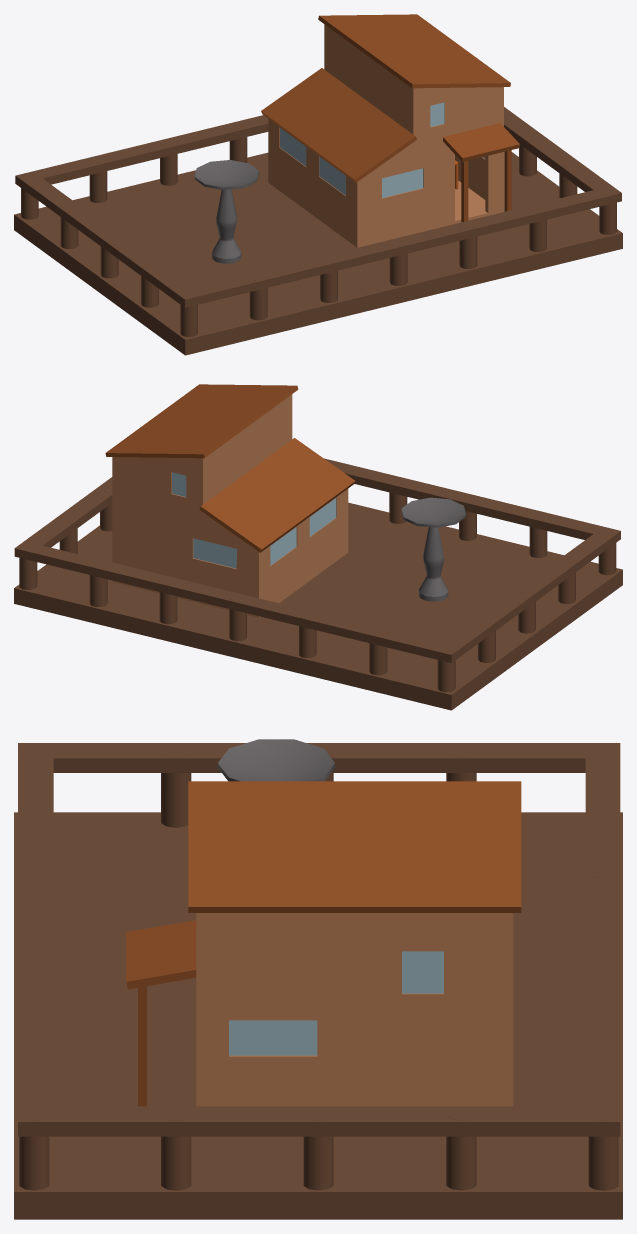
The model's file is Separated_Birdhouse_Model.fbx.
The picture shows the model from 3 angles, top to bottom: view 1: azimuth 30°, elevation 25°; view 2: azimuth 150°, elevation 25°; view 3: azimuth 270°, elevation 25°; orthographic projection. The views are drawn at different scales.
Visible parts, largest first — view 1: Platform, House1, Roof, Fountain, Windows1; view 2: Platform, House1, Roof, Fountain, Windows1; view 3: Platform, House1, Roof, Windows1, Fountain.
Part boxes in pixels (x1,y1,x2,y2): Platform: [14, 107, 622, 355]; House1: [268, 24, 503, 247]; Roof: [261, 14, 519, 222]; Fountain: [194, 160, 259, 263]; Windows1: [280, 102, 485, 197]; Platform: [14, 458, 622, 710]; House1: [112, 394, 348, 617]; Roof: [105, 384, 355, 552]; Fountain: [401, 497, 465, 601]; Windows1: [172, 472, 336, 568]; Platform: [14, 743, 622, 1219]; House1: [196, 913, 513, 1106]; Roof: [126, 781, 521, 1106]; Windows1: [229, 951, 443, 1055]; Fountain: [217, 739, 334, 781].
Bounding box in the file's own units: 25.09 × 9.2 × 17.01.
